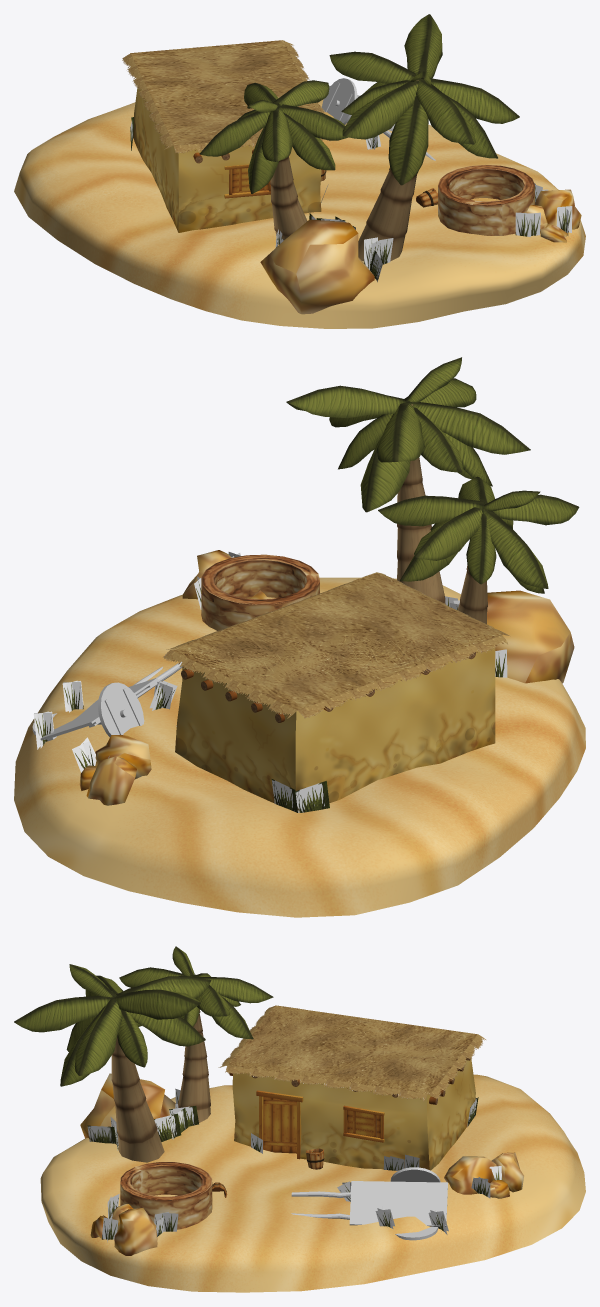
File: maya2sketchfab.fbx.fbx
3 renders of one model, top to bottom at view 1: azimuth 30°, elevation 25°; view 2: azimuth 150°, elevation 25°; view 3: azimuth 270°, elevation 25°, orthographic. The views are drawn at different scales.
Parts seen in each view (by area): view 1: cenario:pCube24, cenario:pPlane2, cenario:pCube1, cenario:pCube22, cenario:pCylinder6, cenario:pCylinder12, cenario:pPlane84, cenario:pPlane79, cenario:pPlane77, cenario:pCylinder13, cenario:pPlane80, cenario:pPlane78 (+12 smaller); view 2: cenario:pCube24, cenario:pCube1, cenario:pPlane2, cenario:pCylinder6, cenario:pCube22, cenario:pPlane79, cenario:pPlane81, cenario:pCylinder12, cenario:pPlane90, cenario:pPlane92, cenario:pPlane80, cenario:pPlane91 (+16 smaller); view 3: cenario:pCube24, cenario:pPlane2, cenario:pCube1, cenario:pCylinder6, cenario:pCylinder12, pCube11, cenario:pPlane78, cenario:pPlane77, cenario:pCylinder13, cenario:pPlane81, cenario:pCube22, cenario:pCube34 (+15 smaller).
Boxes of the visible parts, left/top/right/bottom form: cenario:pCube24: left=14, top=99, right=585, bottom=328; cenario:pPlane2: left=130, top=40, right=316, bottom=145; cenario:pCube1: left=133, top=87, right=321, bottom=232; cenario:pCube22: left=260, top=219, right=374, bottom=314; cenario:pCylinder6: left=438, top=164, right=534, bottom=235; cenario:pCylinder12: left=358, top=78, right=420, bottom=261; cenario:pPlane84: left=388, top=96, right=428, bottom=185; cenario:pPlane79: left=342, top=78, right=419, bottom=139; cenario:pPlane77: left=416, top=79, right=475, bottom=144; cenario:pCylinder13: left=270, top=156, right=307, bottom=240; cenario:pPlane80: left=329, top=51, right=416, bottom=83; cenario:pPlane78: left=429, top=78, right=519, bottom=123; cenario:pCube24: left=14, top=577, right=585, bottom=917; cenario:pCube1: left=175, top=647, right=495, bottom=803; cenario:pPlane2: left=171, top=573, right=502, bottom=710; cenario:pCylinder6: left=201, top=554, right=319, bottom=630; cenario:pCube22: left=487, top=590, right=574, bottom=683; cenario:pPlane79: left=410, top=402, right=530, bottom=454; cenario:pPlane81: left=286, top=385, right=407, bottom=418; cenario:pCylinder12: left=397, top=404, right=445, bottom=603; cenario:pPlane90: left=483, top=509, right=548, bottom=588; cenario:pPlane92: left=378, top=495, right=484, bottom=526; cenario:pPlane80: left=377, top=401, right=424, bottom=462; cenario:pPlane91: left=414, top=507, right=484, bottom=560; cenario:pCube24: left=40, top=1074, right=585, bottom=1292; cenario:pPlane2: left=228, top=1005, right=477, bottom=1093; cenario:pCube1: left=232, top=1057, right=475, bottom=1170; cenario:pCylinder6: left=120, top=1162, right=212, bottom=1229; cenario:pCylinder12: left=111, top=1037, right=164, bottom=1162; pCube11: left=349, top=1181, right=447, bottom=1226; cenario:pPlane78: left=74, top=999, right=122, bottom=1075; cenario:pPlane77: left=14, top=996, right=114, bottom=1032; cenario:pCylinder13: left=178, top=1009, right=210, bottom=1122; cenario:pPlane81: left=114, top=989, right=200, bottom=1019; cenario:pCube22: left=80, top=1073, right=175, bottom=1138; cenario:pCube34: left=263, top=1097, right=296, bottom=1153.
Bounding box in the file's own units: 44.47 × 24.14 × 55.09.
